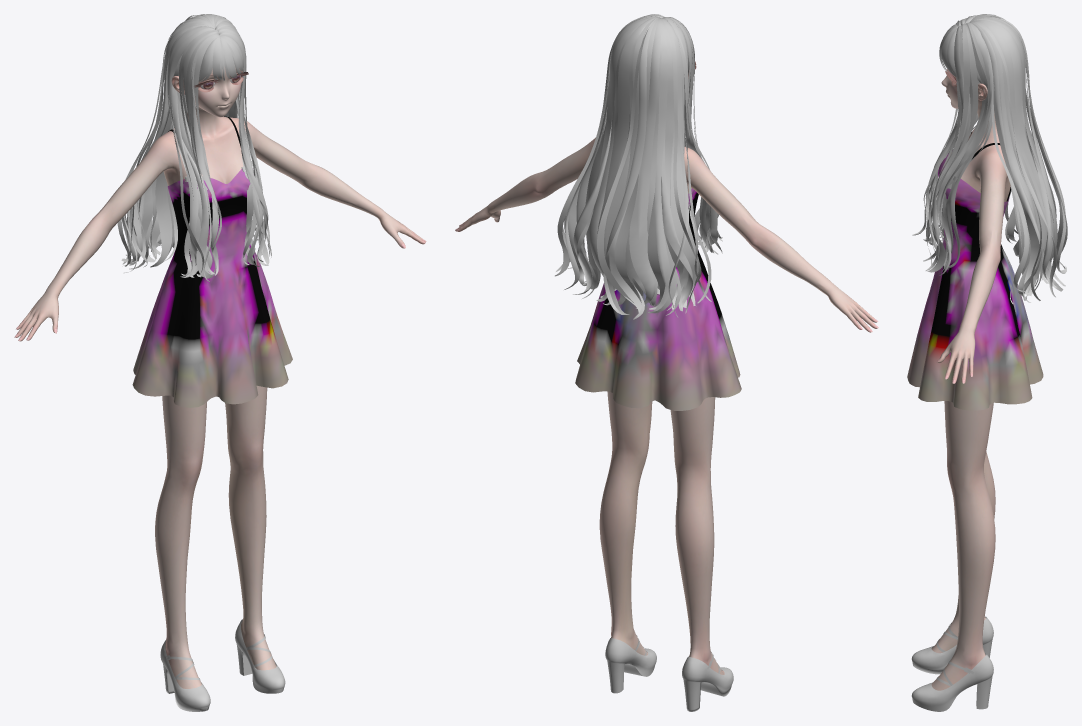
The picture shows the model from 3 angles, left to right: view 1: azimuth 30°, elevation 25°; view 2: azimuth 150°, elevation 25°; view 3: azimuth 270°, elevation 25°; orthographic projection. The views are drawn at different scales.
Parts seen in each view (by area): view 1: PD00001_02_geo, Leg_geo_4, PH00001_01, Body_geo_1, PH00001_02, Hand_geo_H, Leg_geo_3, PBS00001_geo, PD00001_01_geo, Face_geo; view 2: PH00001_01, PD00001_02_geo, Leg_geo_4, Body_geo_1, PBS00001_geo, Leg_geo_3, Hand_geo_H, PD00001_01_geo, PH00001_02; view 3: PH00001_01, PD00001_02_geo, Leg_geo_4, PH00001_02, Body_geo_1, PBS00001_geo, Hand_geo_H, Leg_geo_3, PD00001_01_geo, Face_geo.
Boxes of the visible parts, x1,y1,x2,y2 form: PD00001_02_geo: [132, 116, 292, 407]; Leg_geo_4: [155, 429, 276, 688]; PH00001_01: [117, 14, 271, 282]; Body_geo_1: [79, 112, 333, 249]; PH00001_02: [179, 26, 269, 278]; Hand_geo_H: [15, 174, 425, 341]; Leg_geo_3: [162, 385, 267, 450]; PBS00001_geo: [160, 619, 285, 711]; PD00001_01_geo: [87, 109, 333, 242]; Face_geo: [171, 67, 243, 117]; PH00001_01: [555, 14, 722, 319]; PD00001_02_geo: [575, 188, 741, 410]; Leg_geo_4: [599, 429, 724, 674]; Body_geo_1: [521, 137, 783, 258]; PBS00001_geo: [605, 635, 733, 711]; Leg_geo_3: [607, 391, 715, 454]; Hand_geo_H: [456, 180, 877, 332]; PD00001_01_geo: [522, 146, 770, 259]; PH00001_02: [650, 14, 701, 238]; PH00001_01: [912, 14, 1067, 304]; PD00001_02_geo: [907, 131, 1043, 410]; Leg_geo_4: [931, 449, 995, 690]; PH00001_02: [923, 18, 978, 272]; Body_geo_1: [945, 112, 1010, 276]; PBS00001_geo: [911, 616, 993, 711]; Hand_geo_H: [937, 268, 994, 383]; Leg_geo_3: [944, 401, 993, 458]; PD00001_01_geo: [949, 112, 1004, 275]; Face_geo: [941, 74, 994, 112].
Bounding box in the file's own units: 103 × 159 × 34.59.
